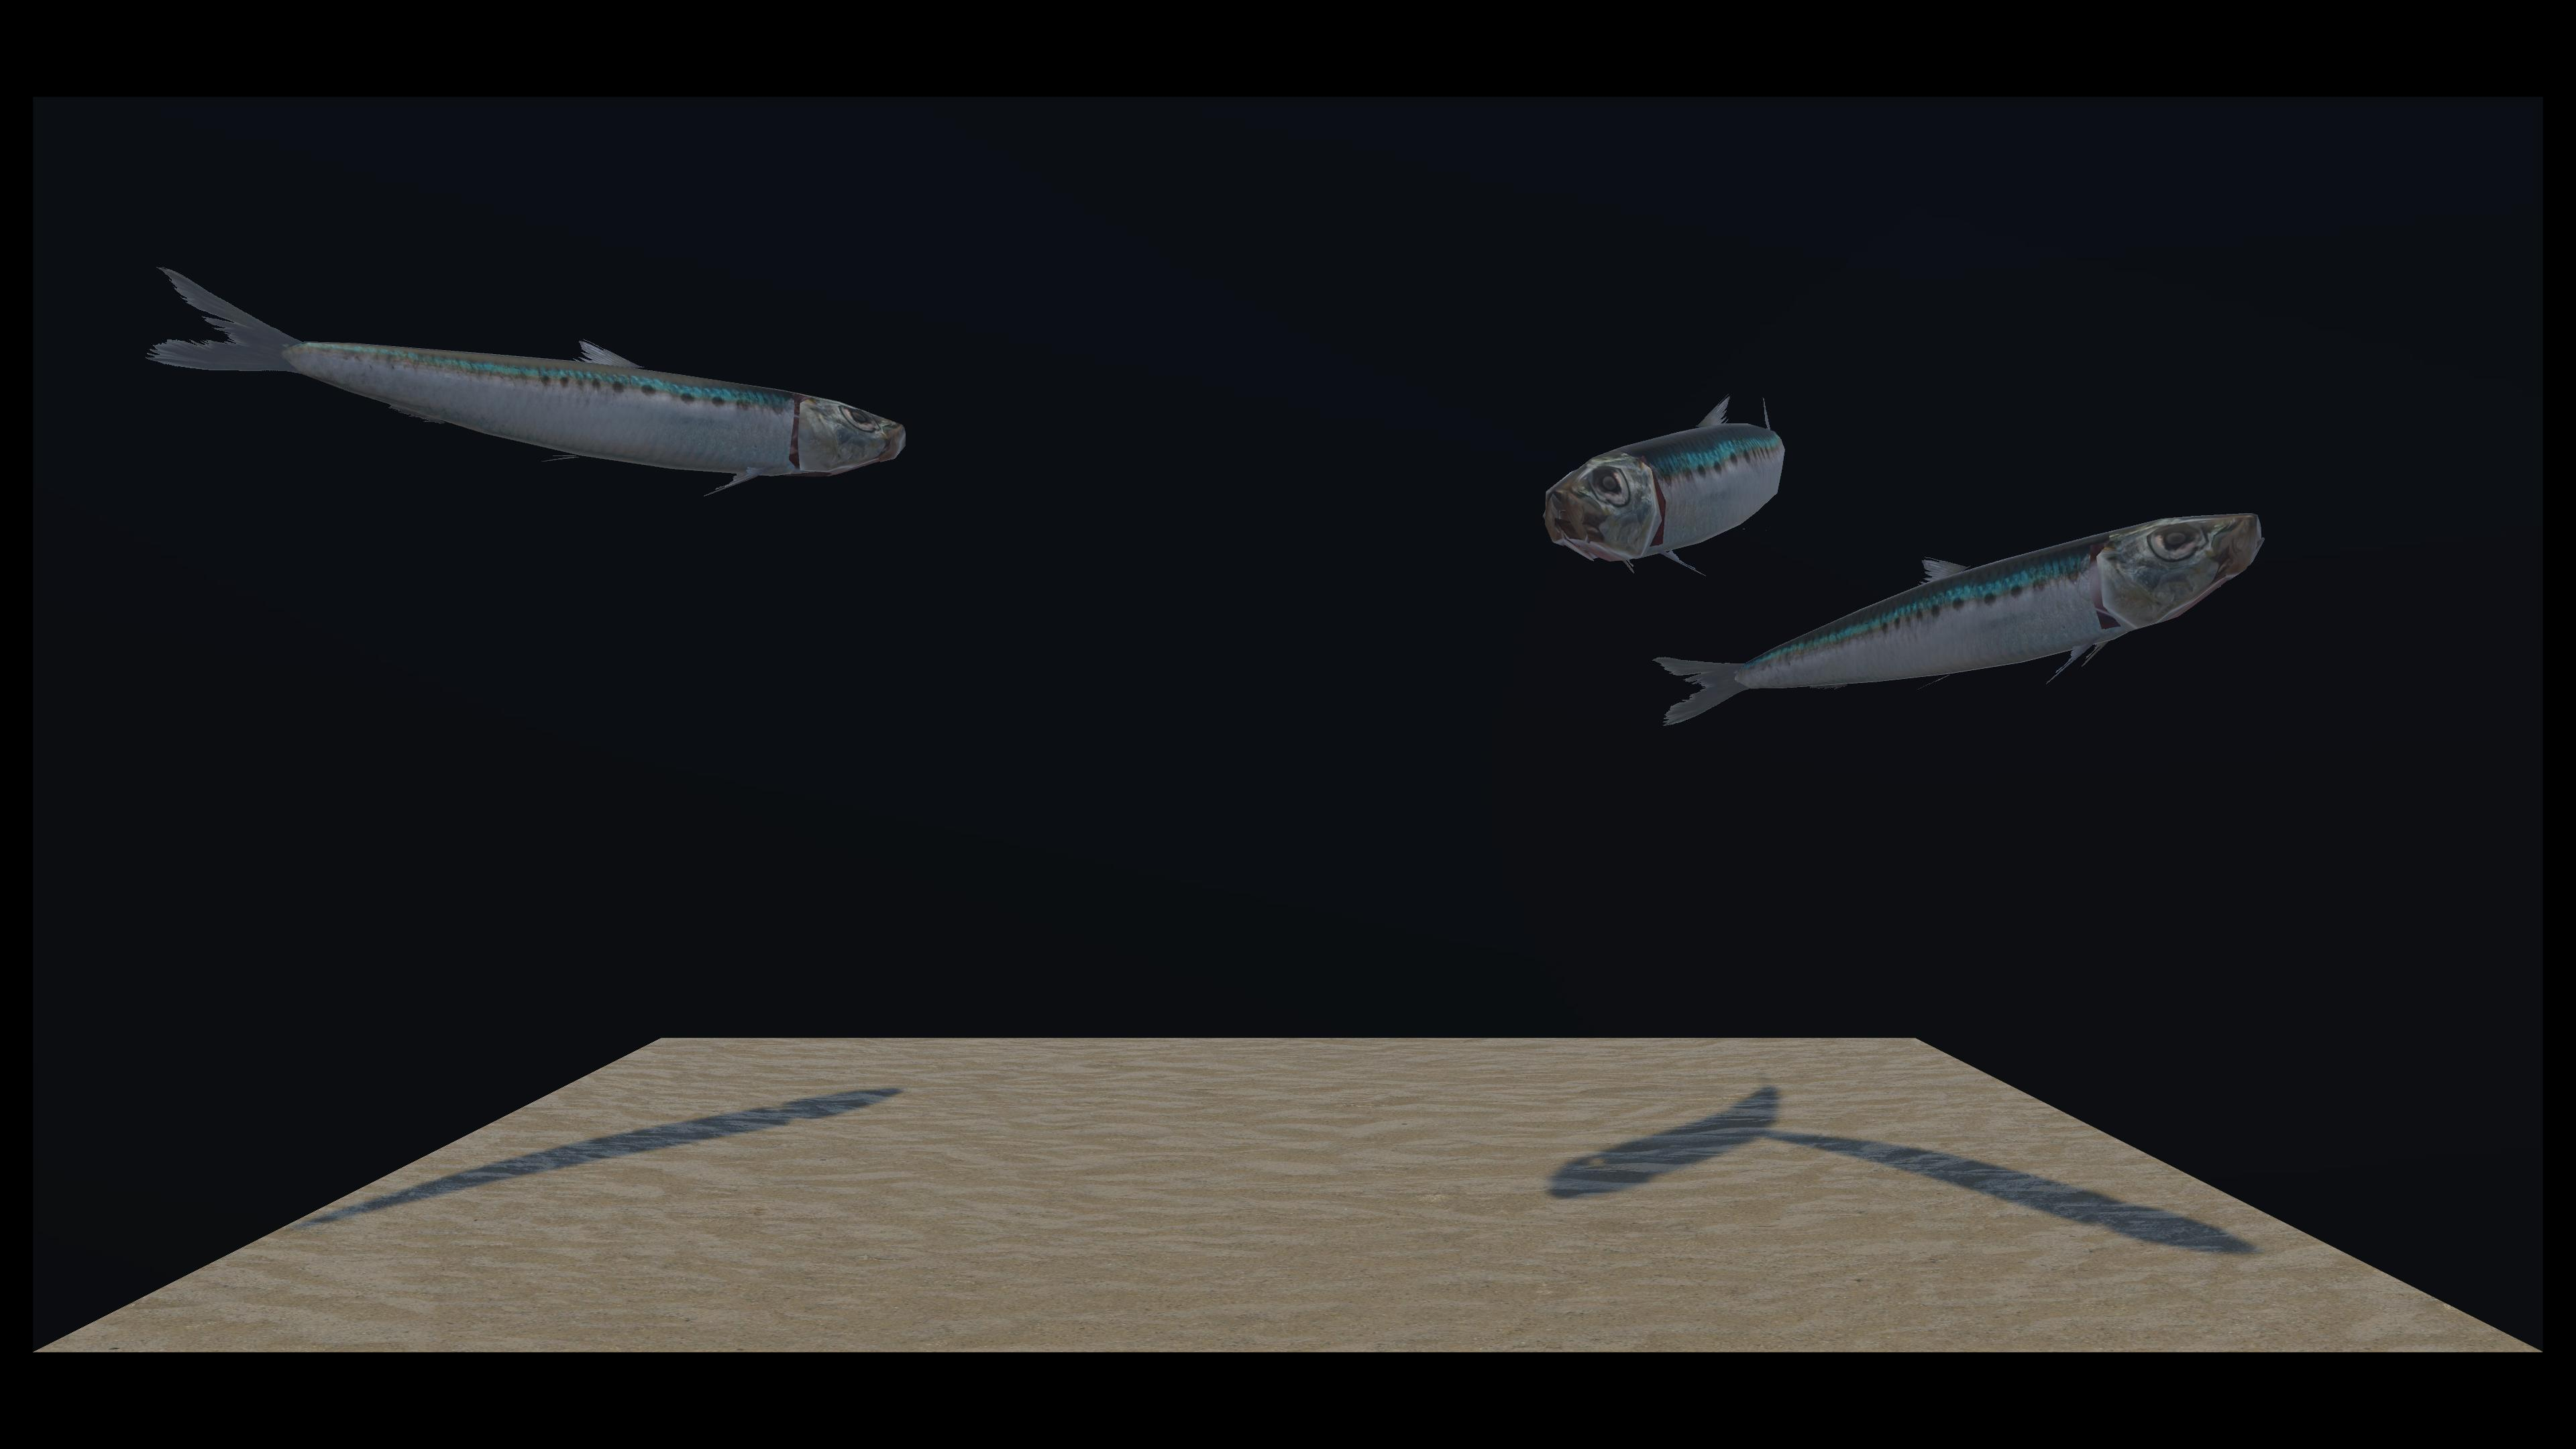Sardine_Front: (909, 465, 2249, 725), (166, 267, 996, 506), (849, 398, 1819, 582)
